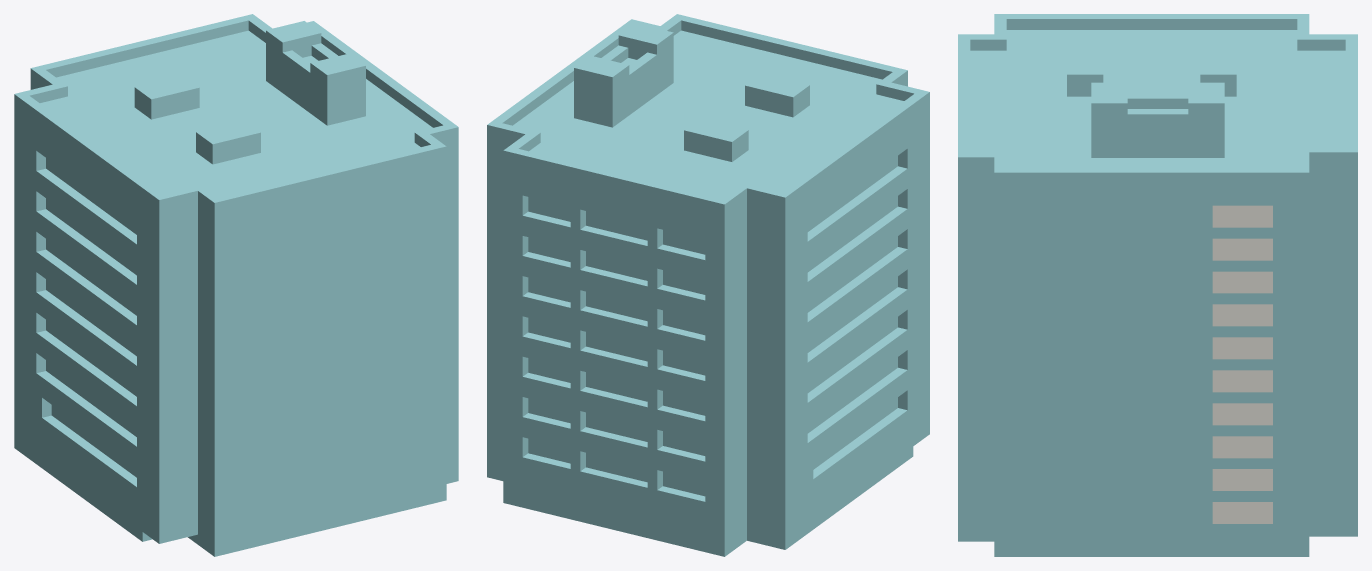
File: nishida_2.fbx
3 views of the same model, side by side, from view 1: azimuth 30°, elevation 25°; view 2: azimuth 150°, elevation 25°; view 3: azimuth 270°, elevation 25° (orthographic). The views are drawn at different scales.
Parts seen in each view (by area): view 1: palette; view 2: palette; view 3: palette.
Boxes of the visible parts, x1,y1,x2,y2 form: palette: [14, 14, 458, 556]; palette: [487, 14, 929, 556]; palette: [958, 14, 1357, 556].
Size of the model in its own units: 31 by 39 by 33.
1 material, 1 textured.
